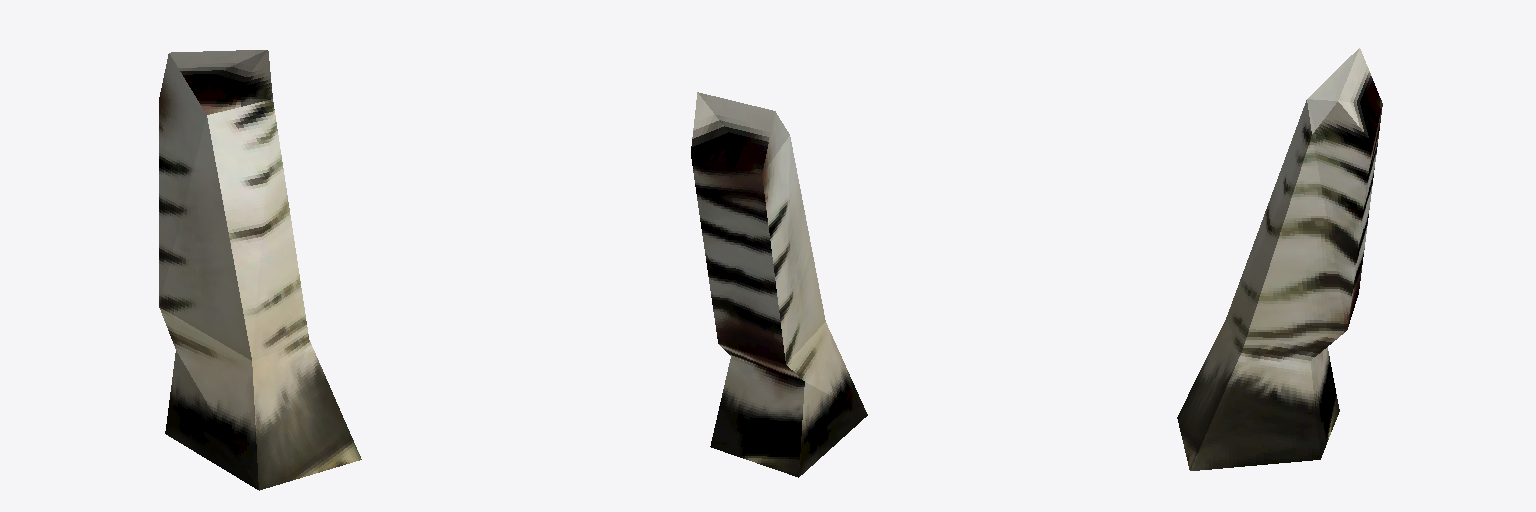
3 renders of one model, left to right at view 1: azimuth 30°, elevation 25°; view 2: azimuth 150°, elevation 25°; view 3: azimuth 270°, elevation 25°, orthographic.
Visible parts, largest first — view 1: ZBLD; view 2: ZBLD; view 3: ZBLD.
Part boxes in pixels (x1,y1,x2,y2): ZBLD: (159,50,361,490); ZBLD: (691,92,867,477); ZBLD: (1177,48,1382,470).
Bounding box in the file's own units: 0.2202 × 0.6416 × 0.3222.
Materials: 1 (1 with a texture image).